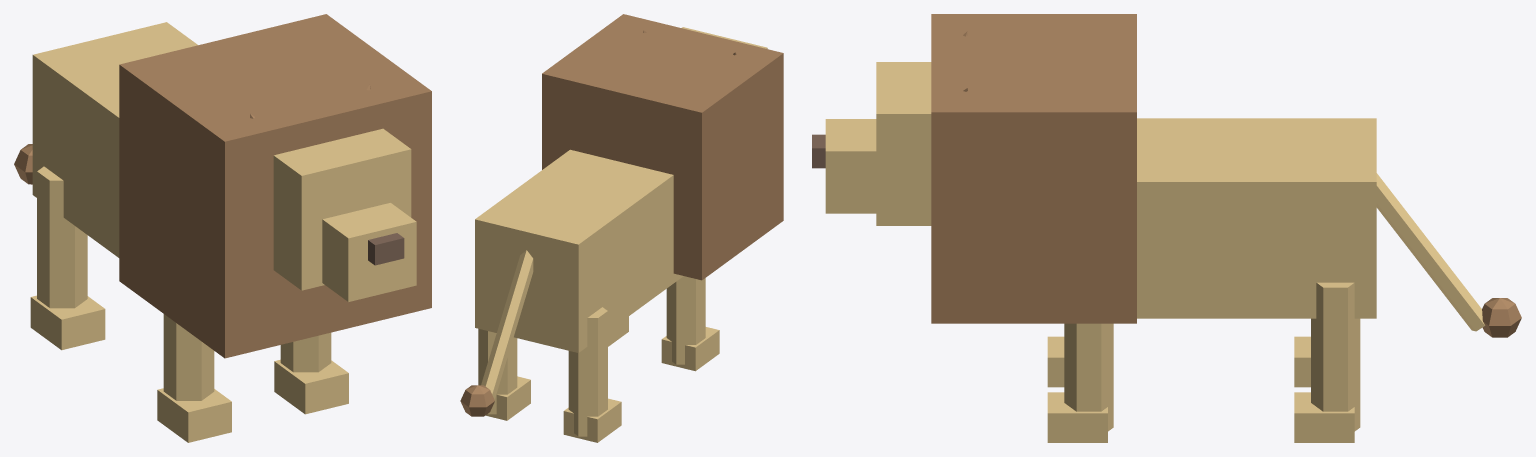
The model's file is lion.glb.
3 views of the same model, side by side, from view 1: azimuth 30°, elevation 25°; view 2: azimuth 150°, elevation 25°; view 3: azimuth 270°, elevation 25° (orthographic). The views are drawn at different scales.
Visible parts, largest first — view 1: Cube.001, Cube, Cube.002, Cube.003, Cylinder.001, Cylinder, Cube.006, Cube.007, Cube.005, Cylinder.002, Cube.004, Sphere; view 2: Cube.001, Cube, Cylinder.001, Cylinder, Cylinder.004, Cylinder.003, Cube.005, Cube.006, Cube.008, Sphere, Cube.007; view 3: Cube.001, Cube, Cube.002, Cylinder.003, Cube.003, Cylinder.002, Cylinder.004, Cube.007, Cube.008, Sphere, Cube.005, Cube.006.
Part boxes in pixels (x1,y1,x2,y2): Cube.001: (119,14,431,358); Cube: (32,22,197,257); Cube.002: (273,128,411,290); Cube.003: (322,203,416,301); Cylinder.001: (37,166,87,308); Cylinder: (163,314,214,400); Cube.006: (30,295,105,350); Cube.007: (274,359,348,414); Cube.005: (157,388,231,442); Cylinder.002: (280,332,331,372); Cube.004: (368,233,404,265); Sphere: (14,144,32,184); Cube.001: (542,14,783,280); Cube: (475,149,683,352); Cylinder.001: (568,307,607,436); Cylinder: (666,276,705,364); Cylinder.004: (481,250,533,399); Cylinder.003: (478,328,517,414); Cube.005: (661,327,719,371); Cube.006: (563,398,621,442); Cube.008: (486,376,530,420); Sphere: (460,385,494,416); Cube.007: (608,316,628,346); Cube.001: (931,14,1136,323); Cube: (1137,118,1376,318); Cube.002: (876,62,931,225); Cylinder.003: (1311,282,1360,431); Cube.003: (825,119,876,213); Cylinder.002: (1064,323,1113,431); Cylinder.004: (1376,173,1484,331); Cube.007: (1047,392,1107,442); Cube.008: (1294,392,1354,442); Sphere: (1482,298,1521,337); Cube.005: (1047,336,1064,387); Cube.006: (1294,336,1310,387).
Bounding box in the file's own units: 0.85 × 1.39 × 2.59.
